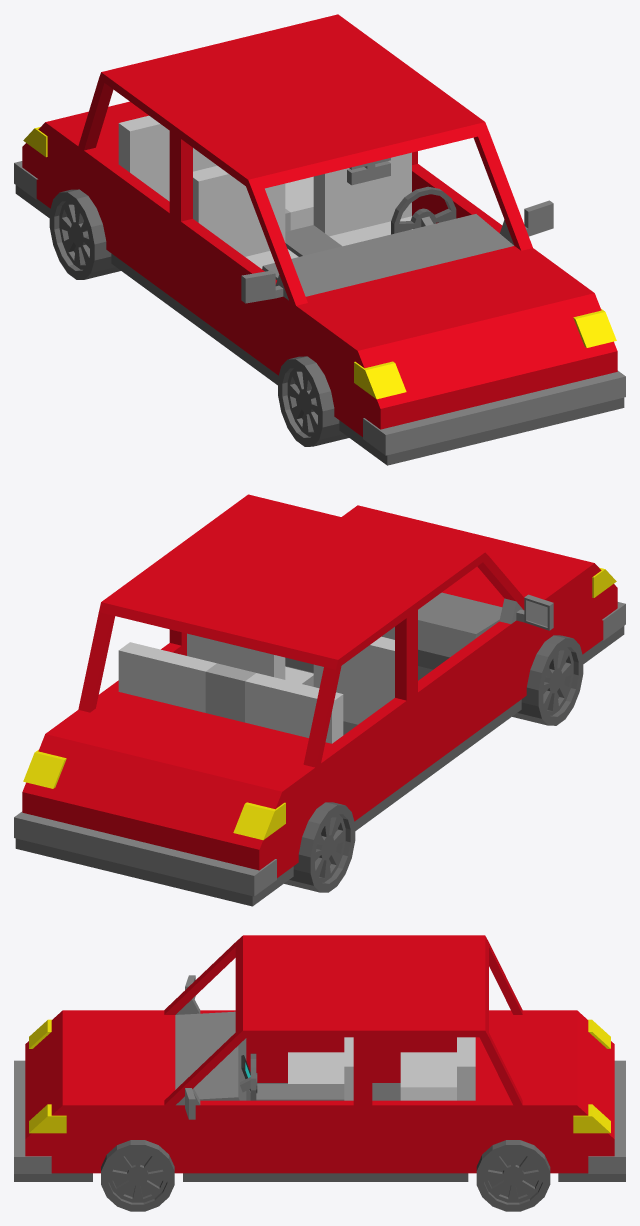
File: car_proper_scale (1).fbx
3 views of the same model, one above another, from view 1: azimuth 30°, elevation 25°; view 2: azimuth 150°, elevation 25°; view 3: azimuth 270°, elevation 25° (orthographic). The views are drawn at different scales.
Parts seen in each view (by area): view 1: car_shell, dashboard, bumpers, seat_front_left, seat_front_right, car_base, wheel_back_right, wheel_front right, seat_back_right, lights, side_view_mirror_frame, steering_wheel (+2 smaller); view 2: car_shell, bumpers, car_base, dashboard, seat_back_left, wheel_front right, wheel_back_right, seat_back_right, seat_front_right, lights, seat_front_left, seat_back_middle (+1 smaller); view 3: car_shell, dashboard, car_base, wheel_back_left, wheel_front_left, bumpers, lights, seat_back_right, seat_front_right, seat_back_left, seat_back_middle, side_view_mirror_frame (+1 smaller).
Part boxes in pixels (x1=…): car_shell: x1=22, y1=14, x2=617, y2=436; dashboard: x1=262, y1=214, x2=513, y2=296; bumpers: x1=14, y1=161, x2=625, y2=455; seat_front_left: x1=313, y1=152, x2=412, y2=246; seat_front_right: x1=193, y1=165, x2=298, y2=268; car_base: x1=15, y1=185, x2=624, y2=465; wheel_back_right: x1=49, y1=189, x2=120, y2=279; wheel_front right: x1=278, y1=356, x2=348, y2=446; seat_back_right: x1=118, y1=115, x2=216, y2=201; lights: x1=23, y1=127, x2=616, y2=399; side_view_mirror_frame: x1=241, y1=200, x2=553, y2=303; steering_wheel: x1=391, y1=186, x2=456, y2=234; car_shell: x1=22, y1=494, x2=617, y2=877; bumpers: x1=14, y1=602, x2=625, y2=896; car_base: x1=15, y1=626, x2=624, y2=906; dashboard: x1=285, y1=592, x2=502, y2=686; seat_back_left: x1=118, y1=642, x2=216, y2=712; wheel_front right: x1=512, y1=635, x2=583, y2=725; wheel_back_right: x1=284, y1=802, x2=355, y2=892; seat_back_right: x1=245, y1=673, x2=343, y2=743; seat_front_right: x1=313, y1=636, x2=394, y2=735; lights: x1=23, y1=567, x2=616, y2=840; seat_front_left: x1=187, y1=633, x2=313, y2=683; seat_back_middle: x1=205, y1=663, x2=255, y2=722; car_shell: x1=25, y1=935, x2=614, y2=1173; dashboard: x1=175, y1=1011, x2=344, y2=1100; car_base: x1=14, y1=1083, x2=625, y2=1181; wheel_back_left: x1=476, y1=1140, x2=550, y2=1211; wheel_front_left: x1=101, y1=1140, x2=174, y2=1211; bumpers: x1=14, y1=1060, x2=625, y2=1173; lights: x1=29, y1=1019, x2=610, y2=1133; seat_back_right: x1=400, y1=1052, x2=456, y2=1087; seat_front_right: x1=288, y1=1052, x2=344, y2=1083; seat_back_left: x1=457, y1=1037, x2=475, y2=1100; seat_back_middle: x1=400, y1=1087, x2=456, y2=1100; side_view_mirror_frame: x1=176, y1=975, x2=200, y2=1119.
Size of the model in its own units: 195 by 130 by 408.
